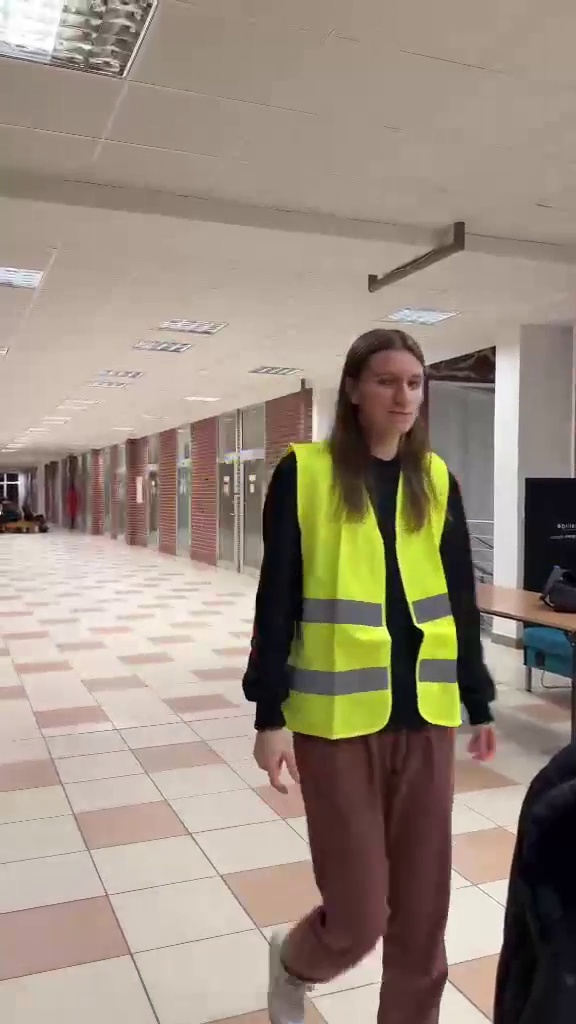vest: (229, 330, 496, 999)
